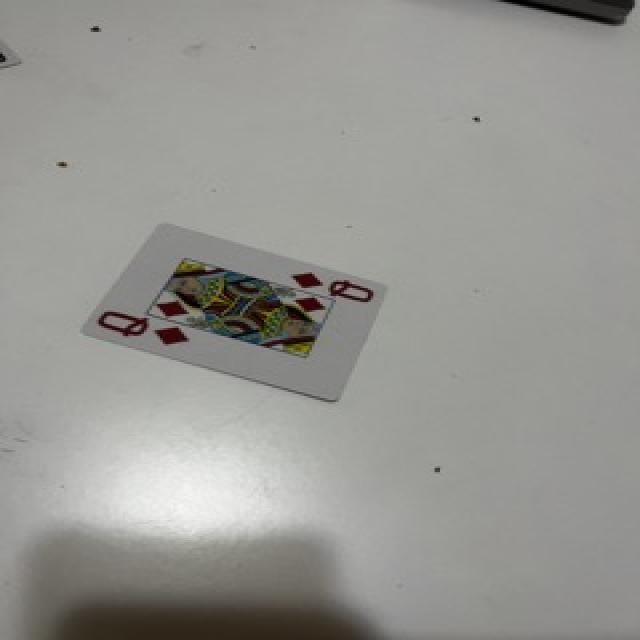Queen of diamonds: (83, 224, 385, 400)
